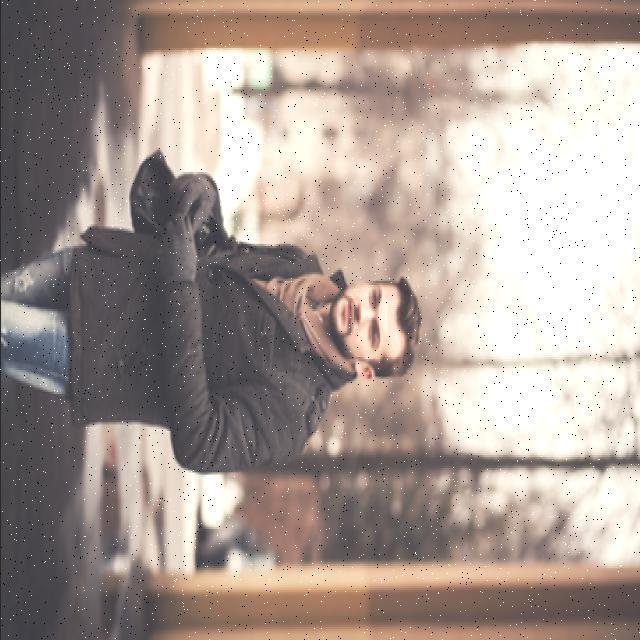face_no_mask: (328, 277, 408, 382)
